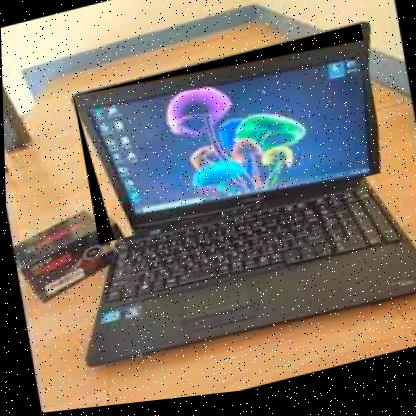Normal: (72, 29, 386, 248)
